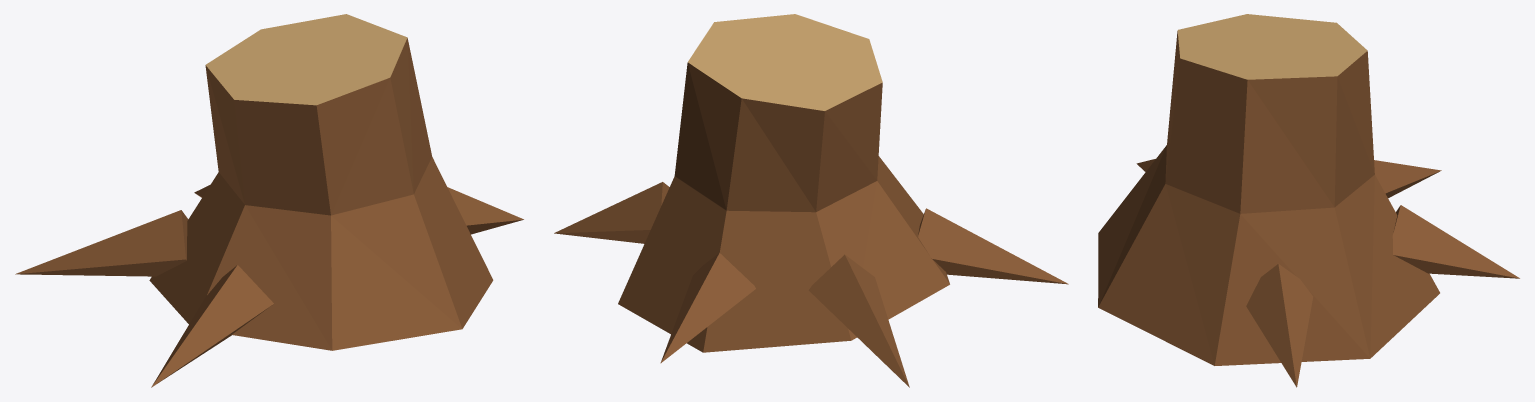
File: HS_LP_Stump_02.fbx
The picture shows the model from 3 angles, left to right: view 1: azimuth 30°, elevation 25°; view 2: azimuth 150°, elevation 25°; view 3: azimuth 270°, elevation 25°; orthographic projection. The views are drawn at different scales.
Visible parts, largest first — view 1: HS_LP_Stump_02; view 2: HS_LP_Stump_02; view 3: HS_LP_Stump_02.
Boxes of the visible parts, x1,y1,x2,y2 form: HS_LP_Stump_02: (15, 14, 523, 387); HS_LP_Stump_02: (554, 14, 1068, 387); HS_LP_Stump_02: (1098, 14, 1519, 387).
Size of the model in its own units: 109 by 58.65 by 86.5.
